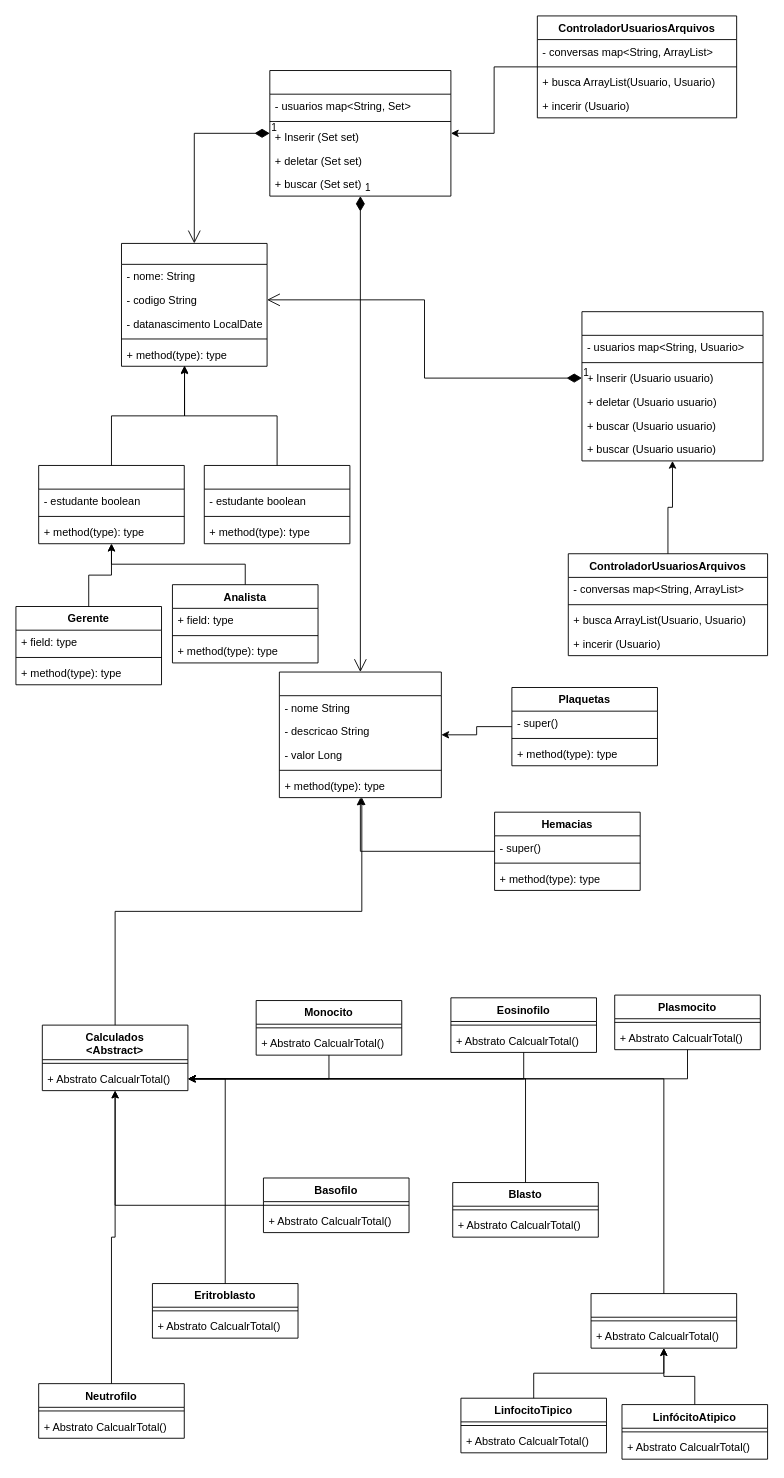
The diagram is 784 pixels wide and 1478 high, and some of its shapes have lost their labels. Here are the shapes that lost their labels. From the top down, the box of each, then its label:
(269, 70, 451, 196): RepositorioSets
(121, 243, 267, 366): Usuario
(581, 311, 763, 461): RepositorioUsuarios
(38, 465, 184, 544): Profissional
(203, 465, 350, 544): Estudantes
(278, 671, 441, 798): Set
(590, 1293, 737, 1348): Linfócito
